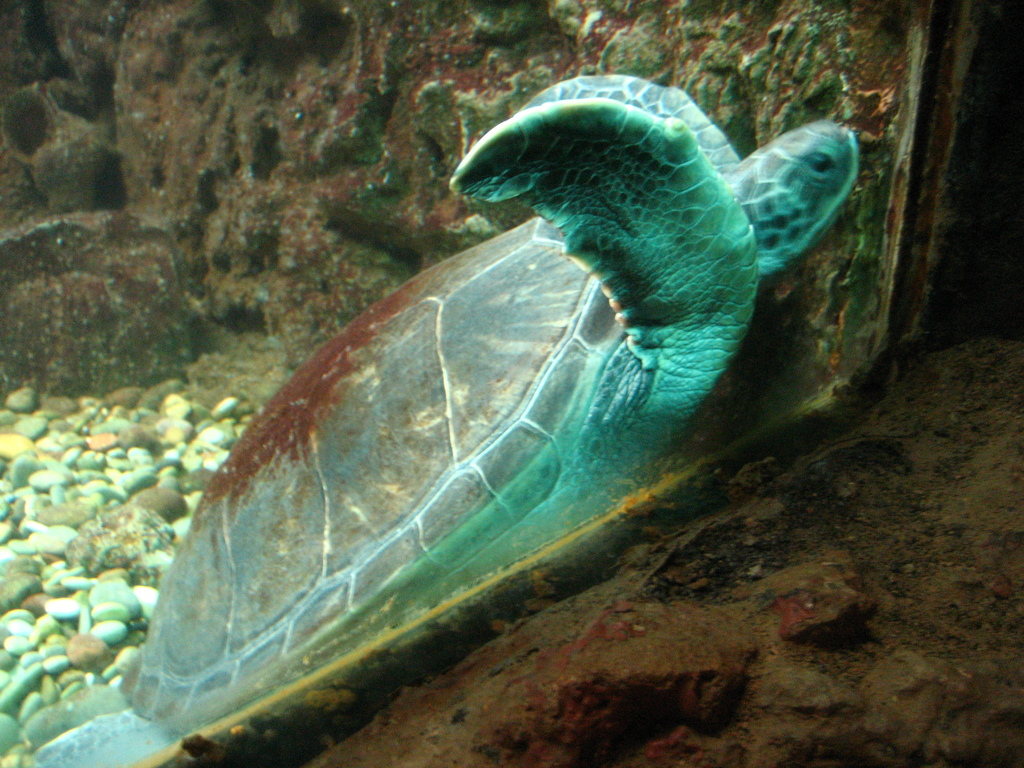Sea turtles: (22, 71, 859, 767)
